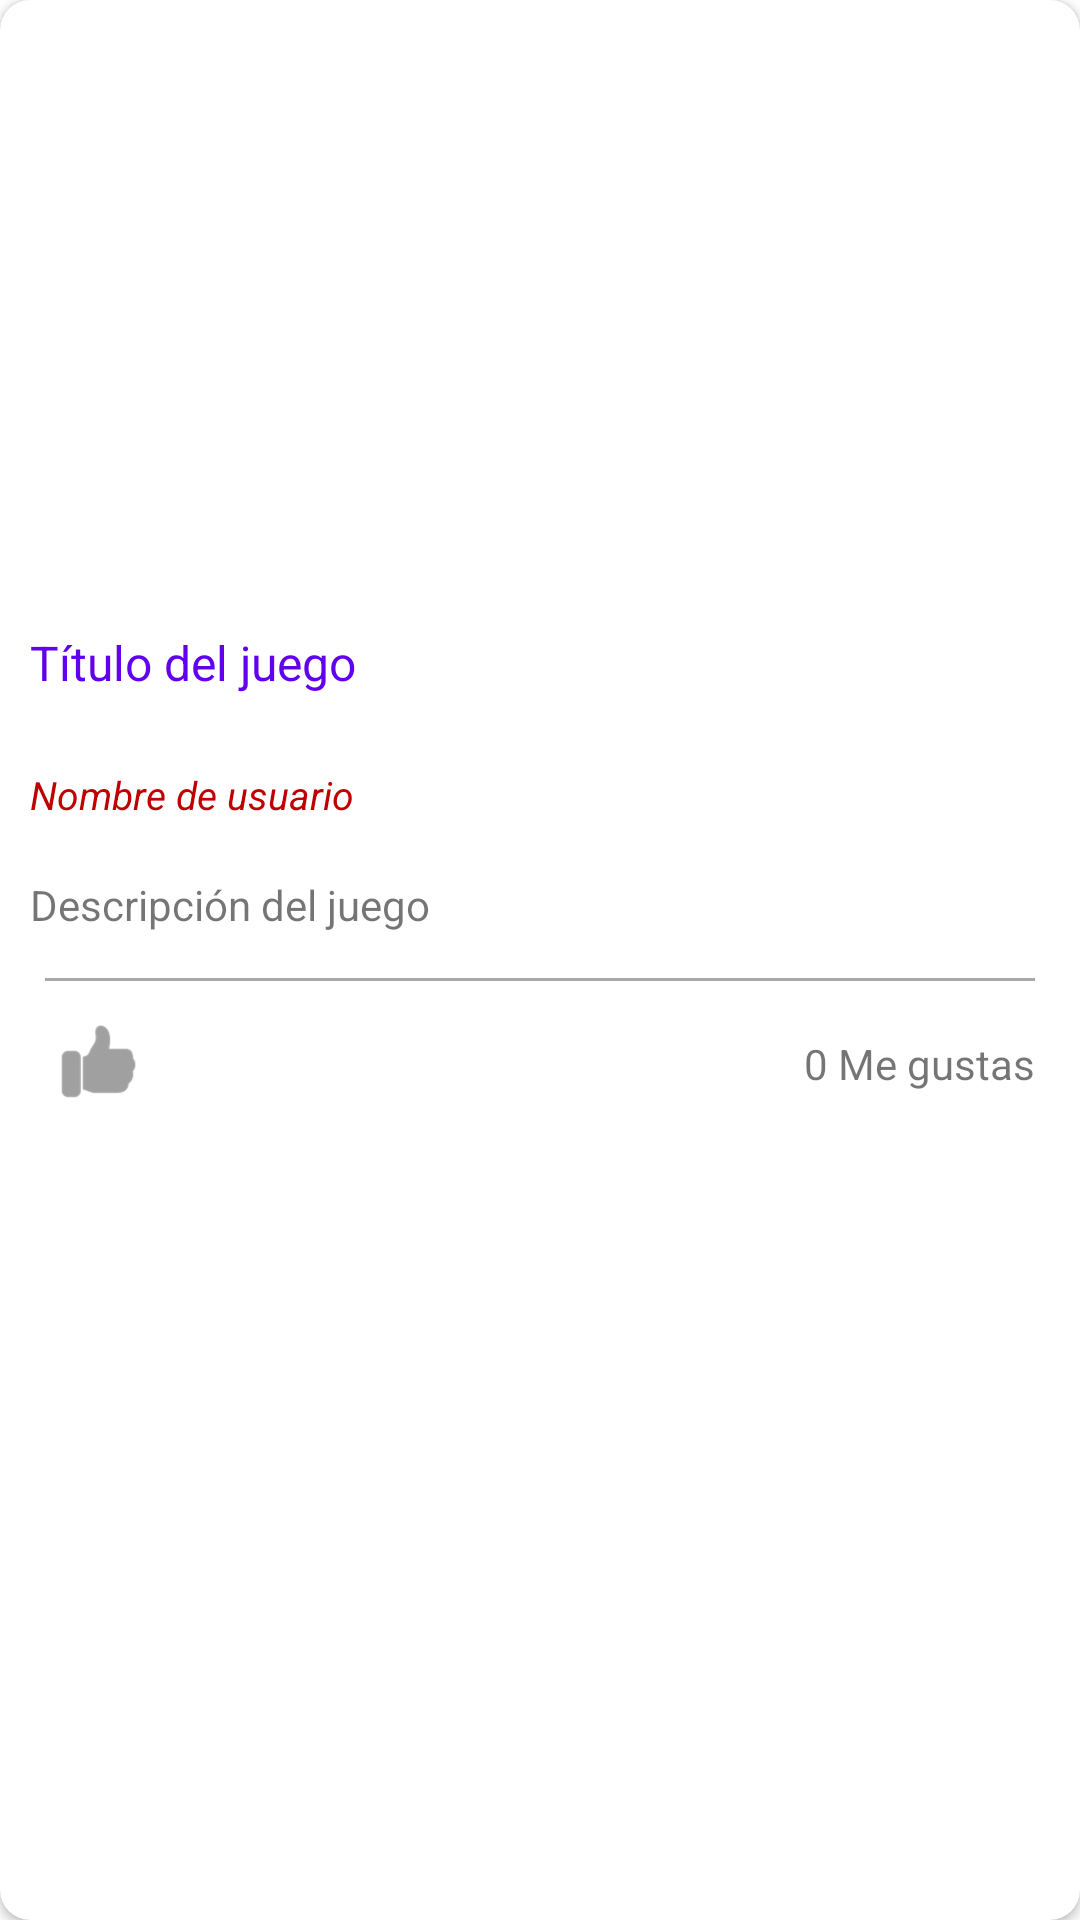

Where icons sit on this 1080px x 1920px app screen, as (x1, y1, x2, y2):
like: (62, 1025, 136, 1097)
